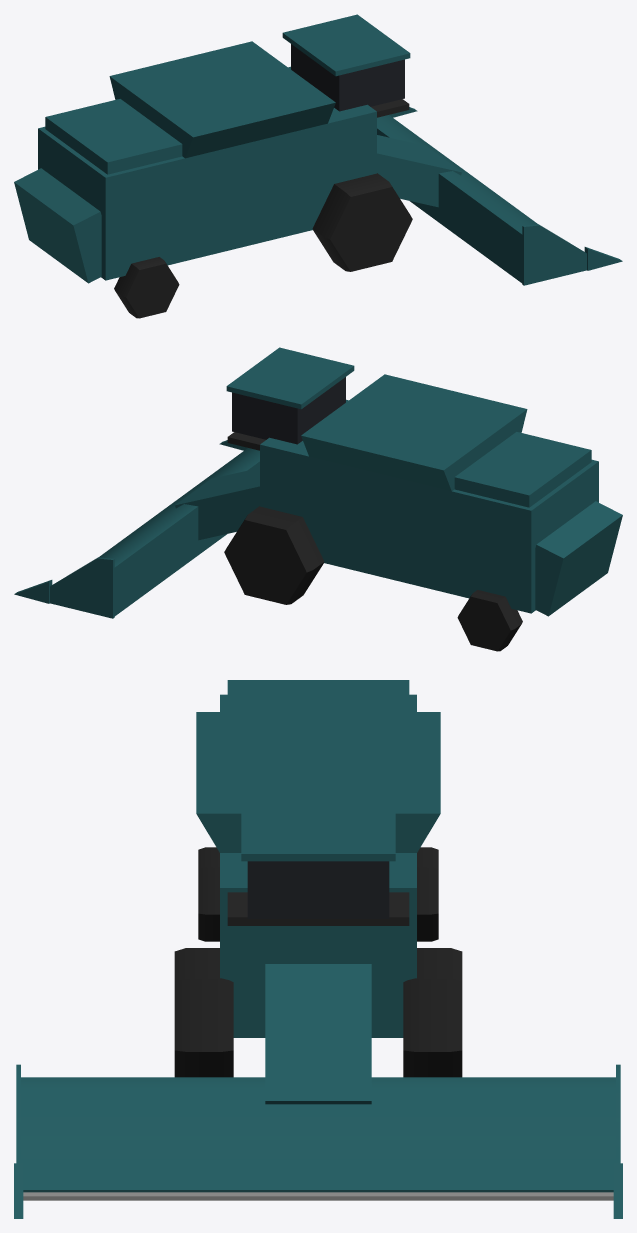
Rendered from SM_Prop_farm_combine_0_LOD2.glb.
The picture shows the model from 3 angles, top to bottom: view 1: azimuth 30°, elevation 25°; view 2: azimuth 150°, elevation 25°; view 3: azimuth 270°, elevation 25°; orthographic projection. The views are drawn at different scales.
Parts seen in each view (by area): view 1: SM_Prop_farm_combine_0_LOD2; view 2: SM_Prop_farm_combine_0_LOD2; view 3: SM_Prop_farm_combine_0_LOD2.
Boxes of the visible parts, bbox=[...] form: SM_Prop_farm_combine_0_LOD2: bbox=[14, 14, 622, 318]; SM_Prop_farm_combine_0_LOD2: bbox=[14, 347, 622, 651]; SM_Prop_farm_combine_0_LOD2: bbox=[14, 680, 622, 1218].
Bounding box in the file's own units: 10.15 × 3.8 × 7.72.
